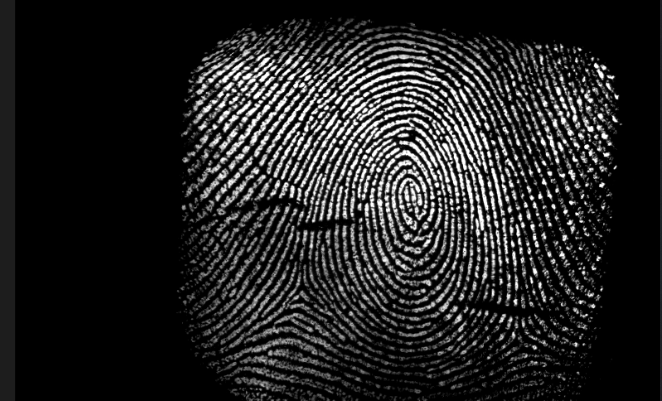deltas: (493, 304, 544, 358), (274, 267, 321, 314)
nucleo: (387, 166, 430, 217)
